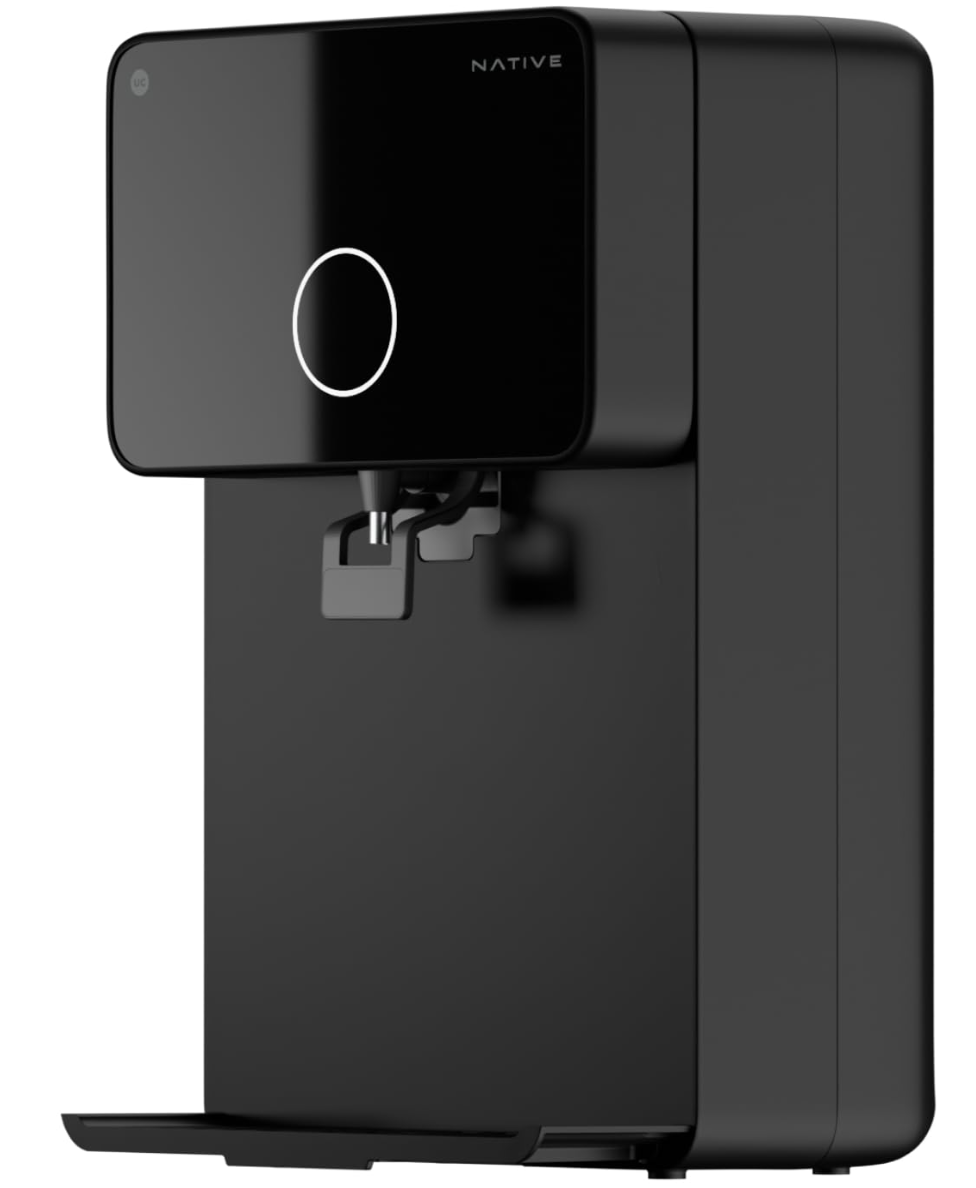water purifier: (39, 8, 965, 1188)
